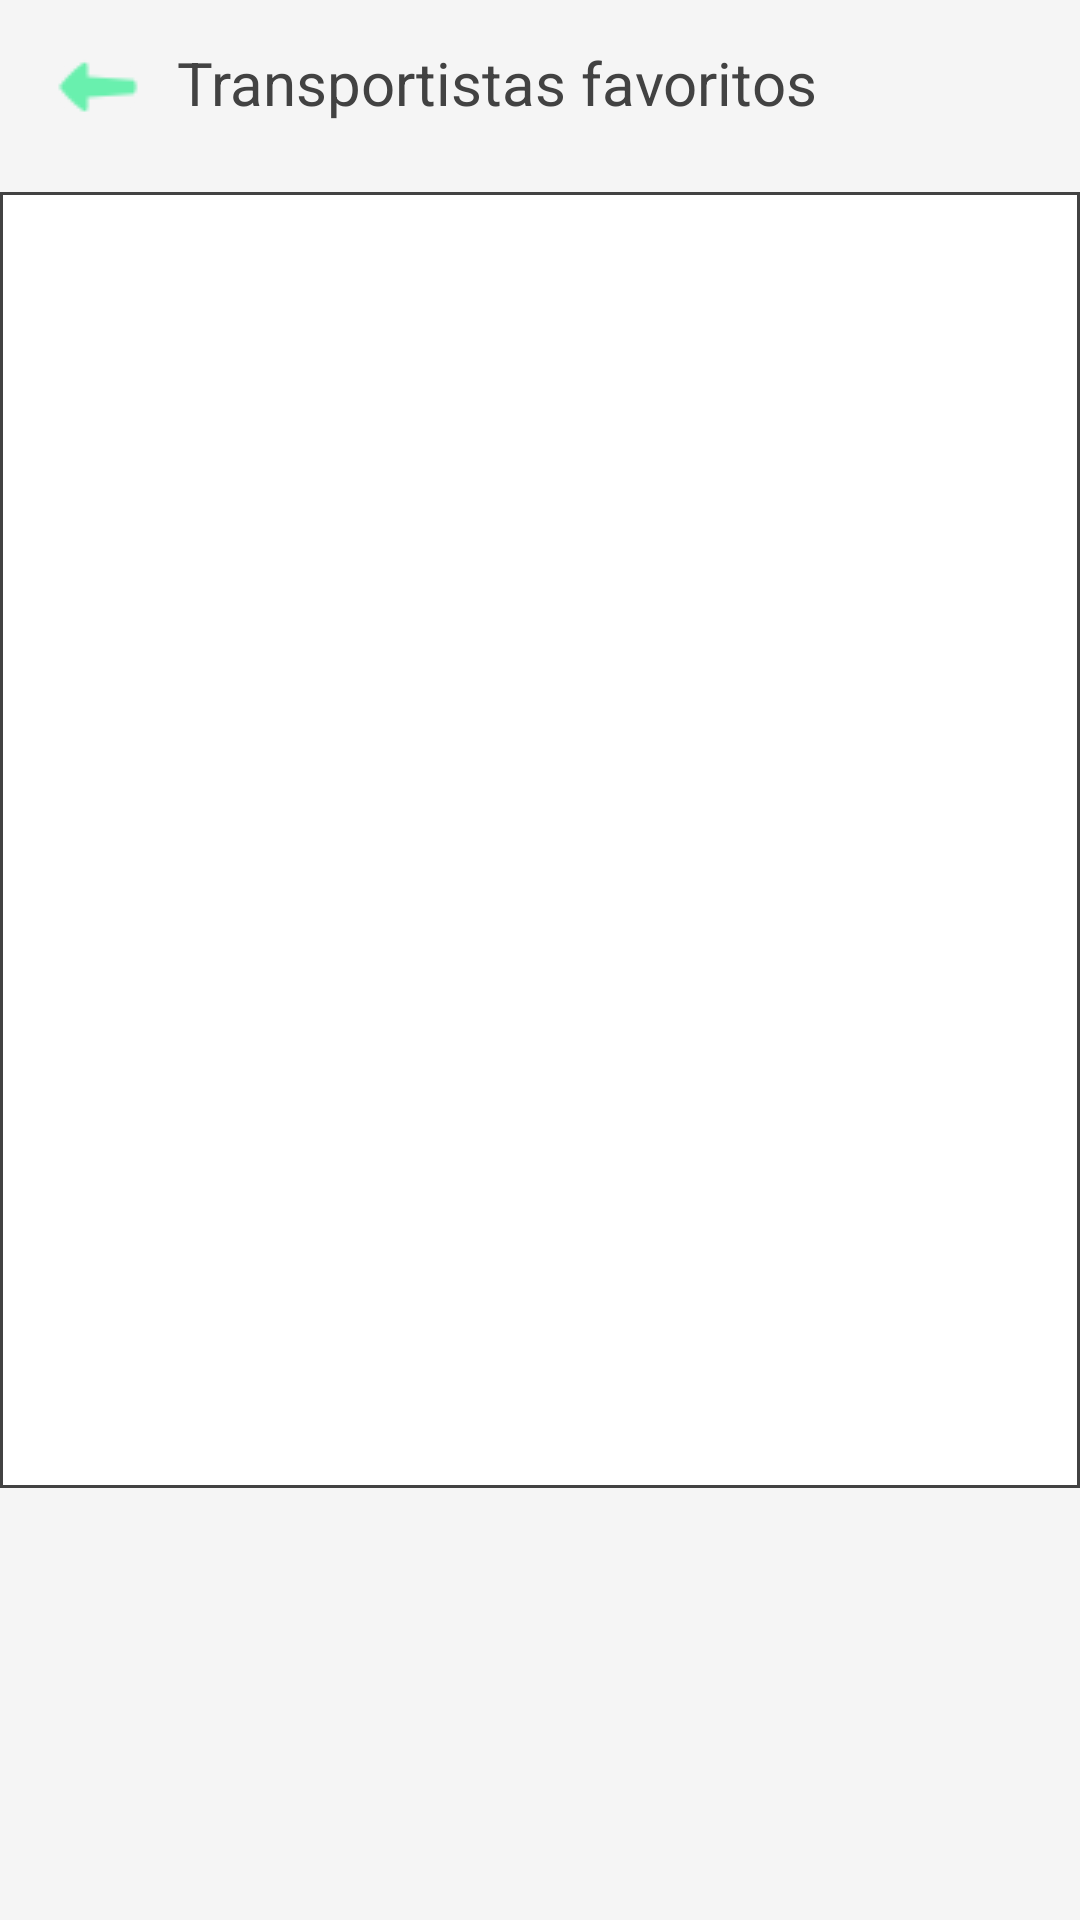

Where icons sit on this 1080*1920 app screen, as (x1, y1, x2, y2):
back: (59, 62, 138, 112)
